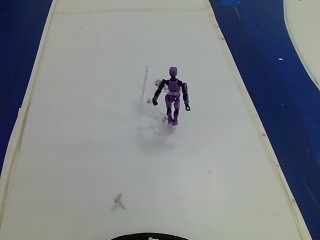pedestrian: (145, 62, 193, 129)
